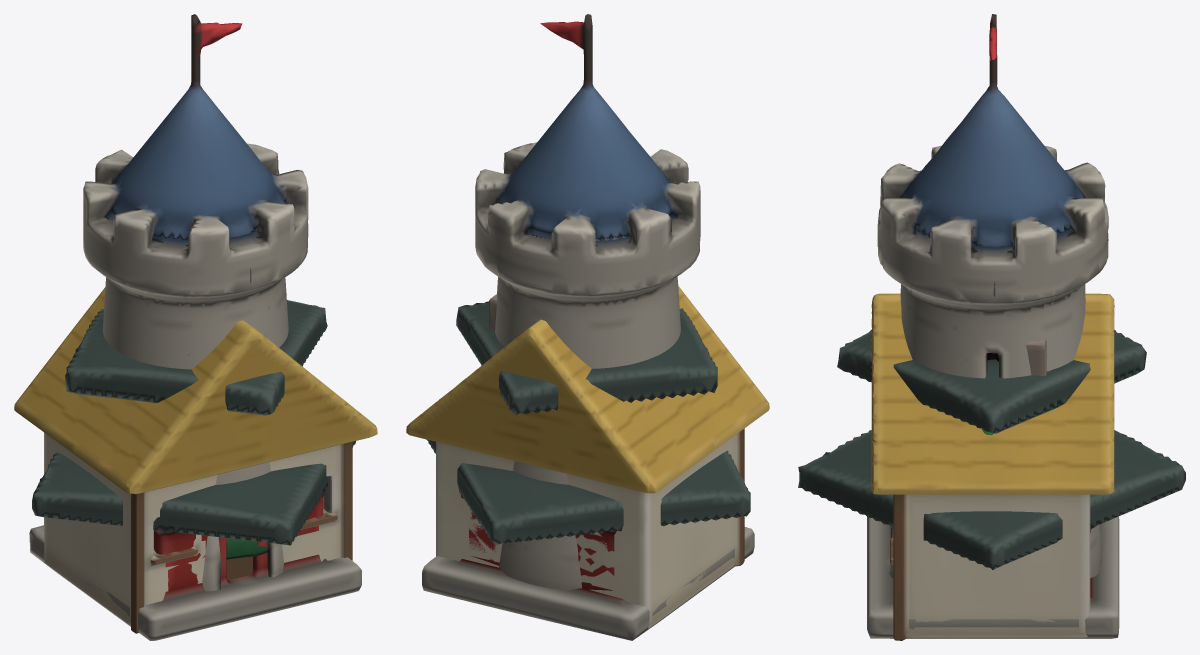
File: static-models.glb
3 renders of one model, left to right at view 1: azimuth 30°, elevation 25°; view 2: azimuth 150°, elevation 25°; view 3: azimuth 270°, elevation 25°, orthographic. The views are drawn at different scales.
Parts seen in each view (by area): view 1: cottage, tower, pagoda, pine; view 2: tower, cottage, pagoda; view 3: cottage, tower, pagoda.
Boxes of the visible parts, bbox=[...] form: cottage: bbox=[14, 287, 377, 633]; tower: bbox=[83, 14, 308, 591]; pagoda: bbox=[29, 268, 361, 640]; pine: bbox=[226, 538, 267, 559]; tower: bbox=[475, 14, 700, 590]; cottage: bbox=[406, 286, 769, 628]; pagoda: bbox=[422, 269, 754, 640]; cottage: bbox=[871, 293, 1114, 640]; tower: bbox=[877, 14, 1108, 578]; pagoda: bbox=[798, 233, 1185, 638].
Bounding box in the file's own units: 4 × 6.51 × 4.
